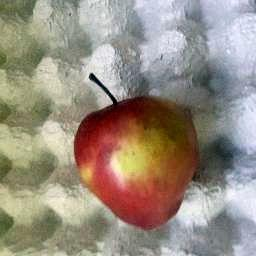apple: (51, 55, 232, 253)
